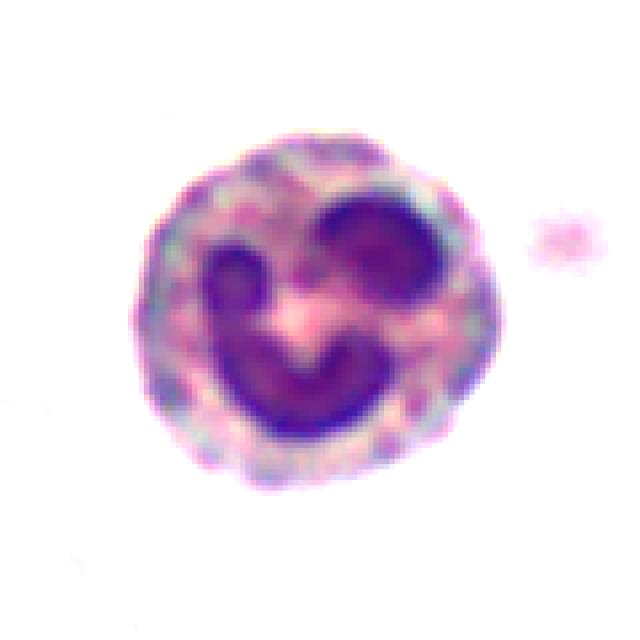WBC: (117, 112, 539, 480)
